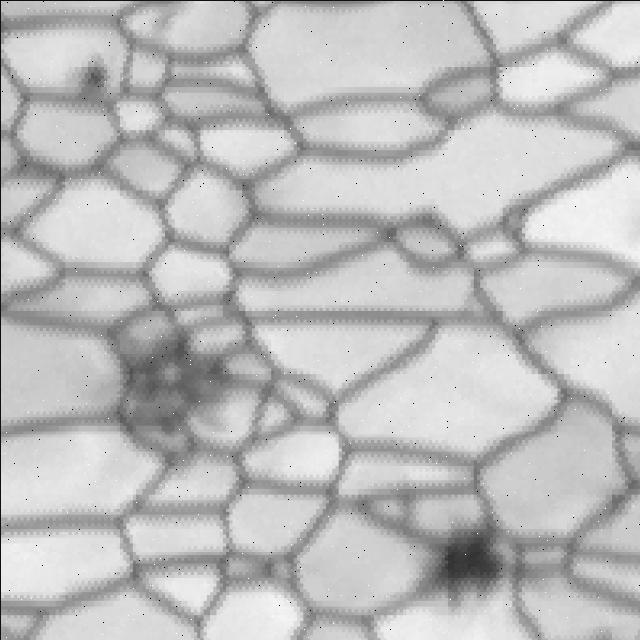good_void: (95, 314, 249, 475), (412, 503, 522, 619), (73, 44, 118, 95)
